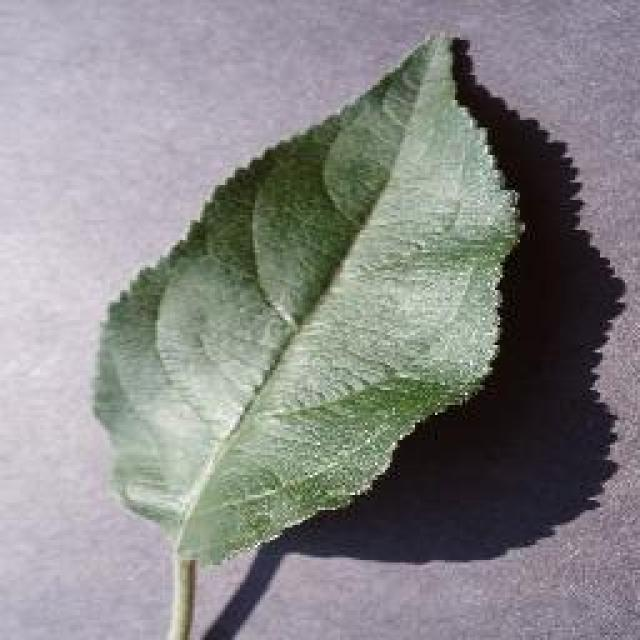Apple___healthy: (90, 29, 529, 571)
